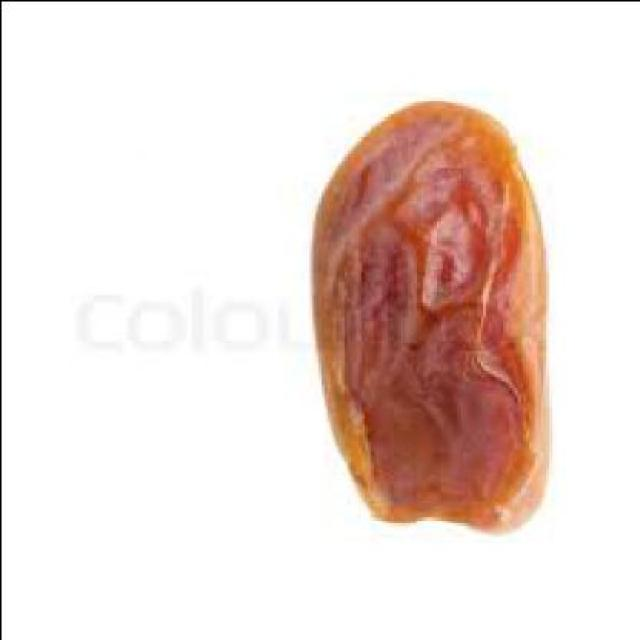BIODEGRADABLE: (308, 93, 548, 527)
